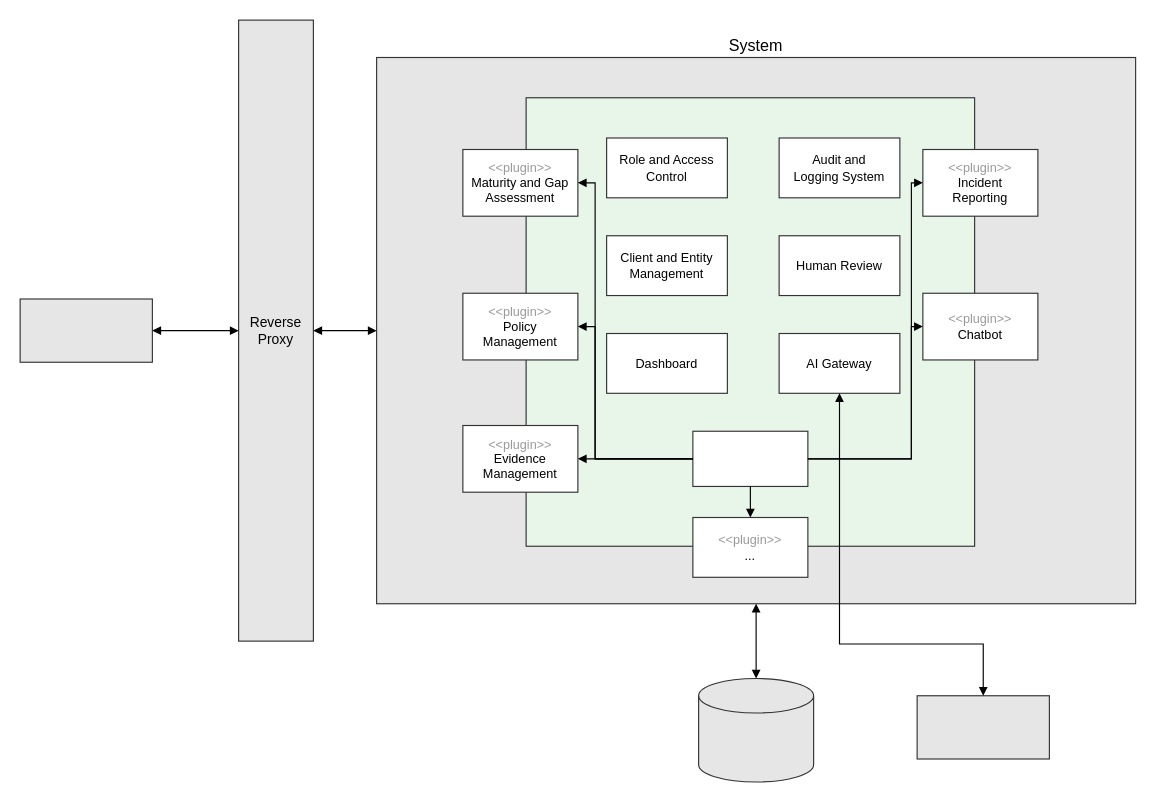
The diagram is 1156 pixels wide and 803 high, and some of its shapes have lost their labels. Each missing label, with the box of its shape:
AI Provider: (916, 695, 1049, 759)
Core: (525, 97, 975, 546)
Database: (697, 677, 814, 782)
Frontend: (19, 298, 152, 362)
Plugins Management: (692, 430, 808, 486)
